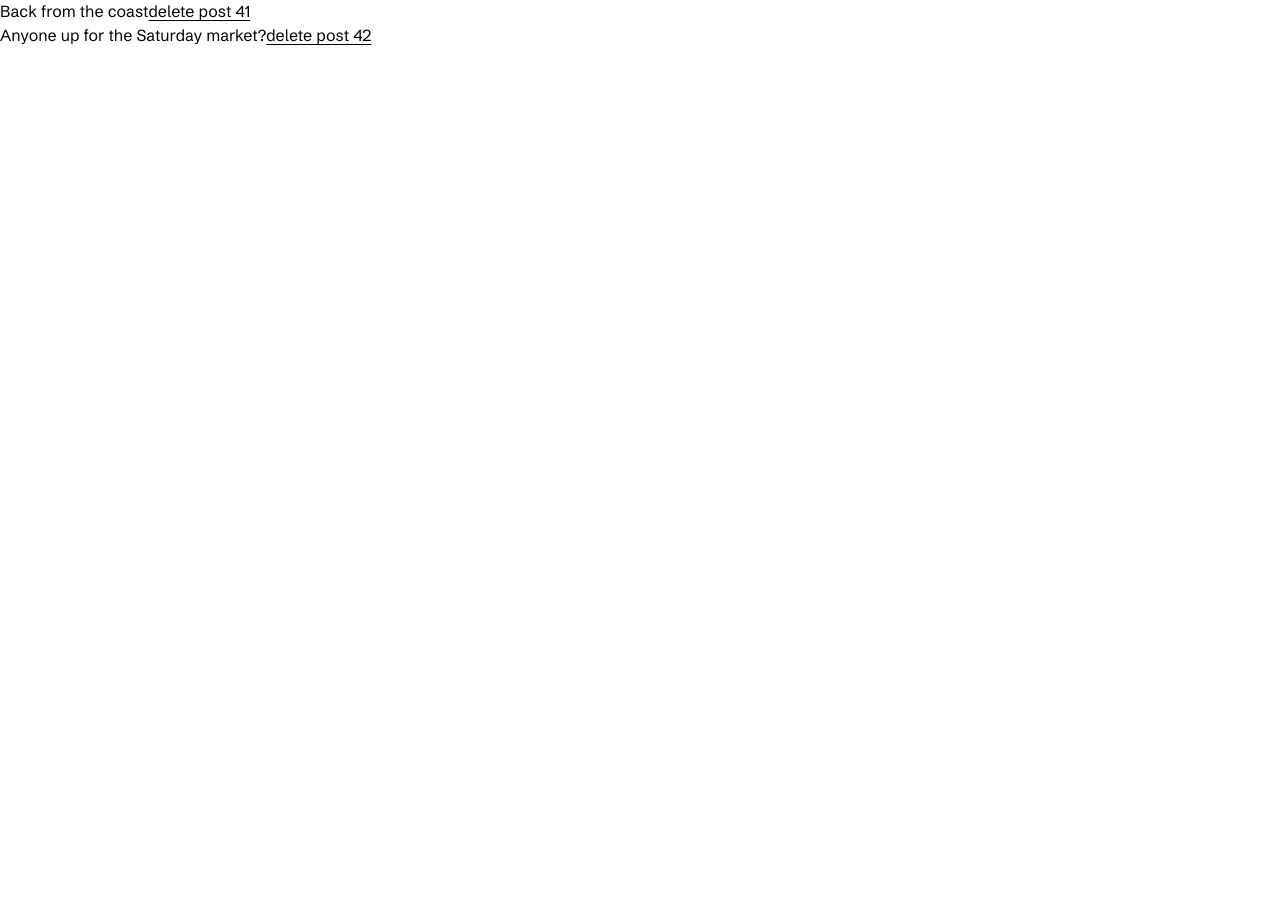
Test case: useConfirm › keeps the dialog open with the error message when the action fails (F-53)
Click the button "delete post 41" at {"x": 199, "y": 12}, box [148,0,250,24]
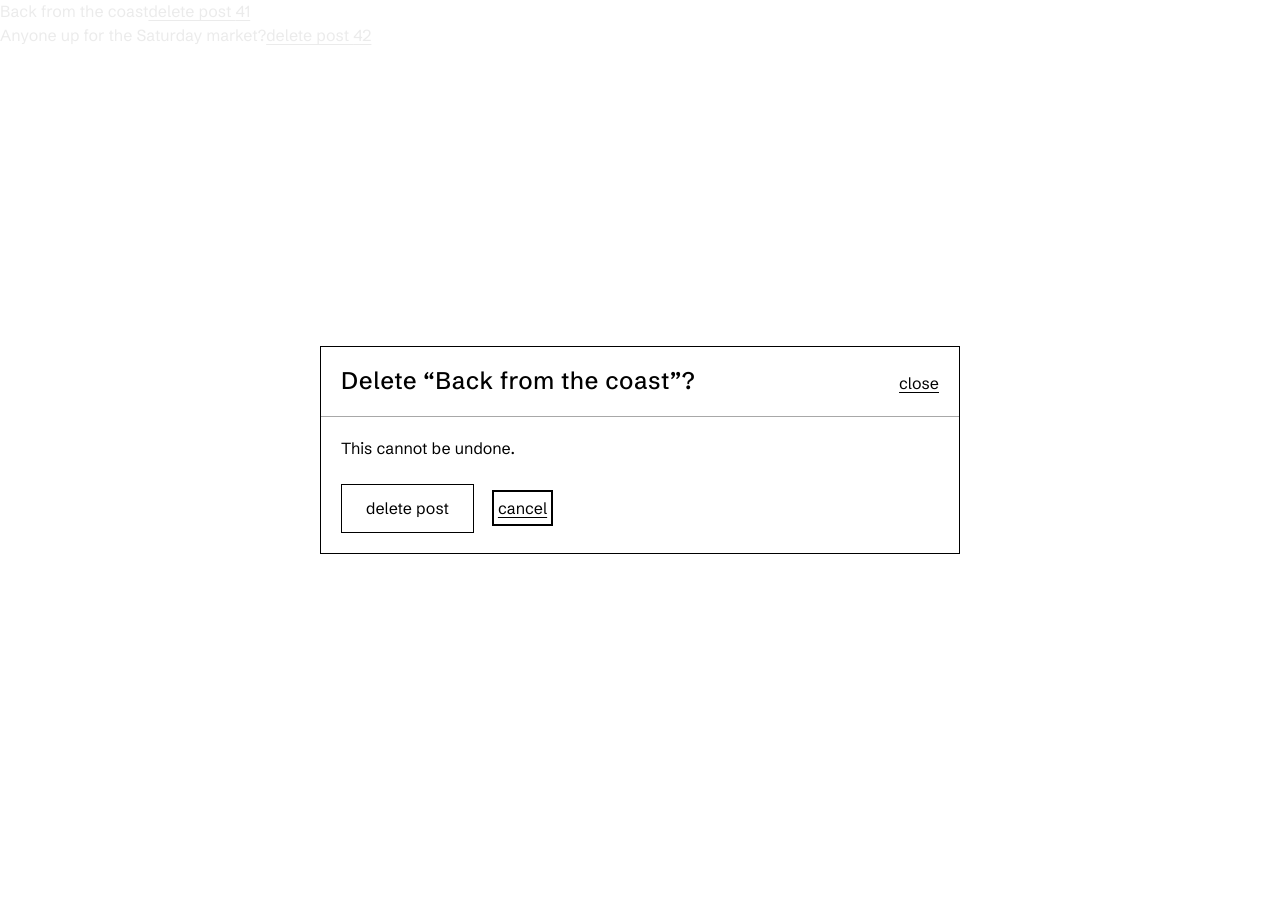
Click the button "delete post" at {"x": 407, "y": 508}, box [341,484,474,533]
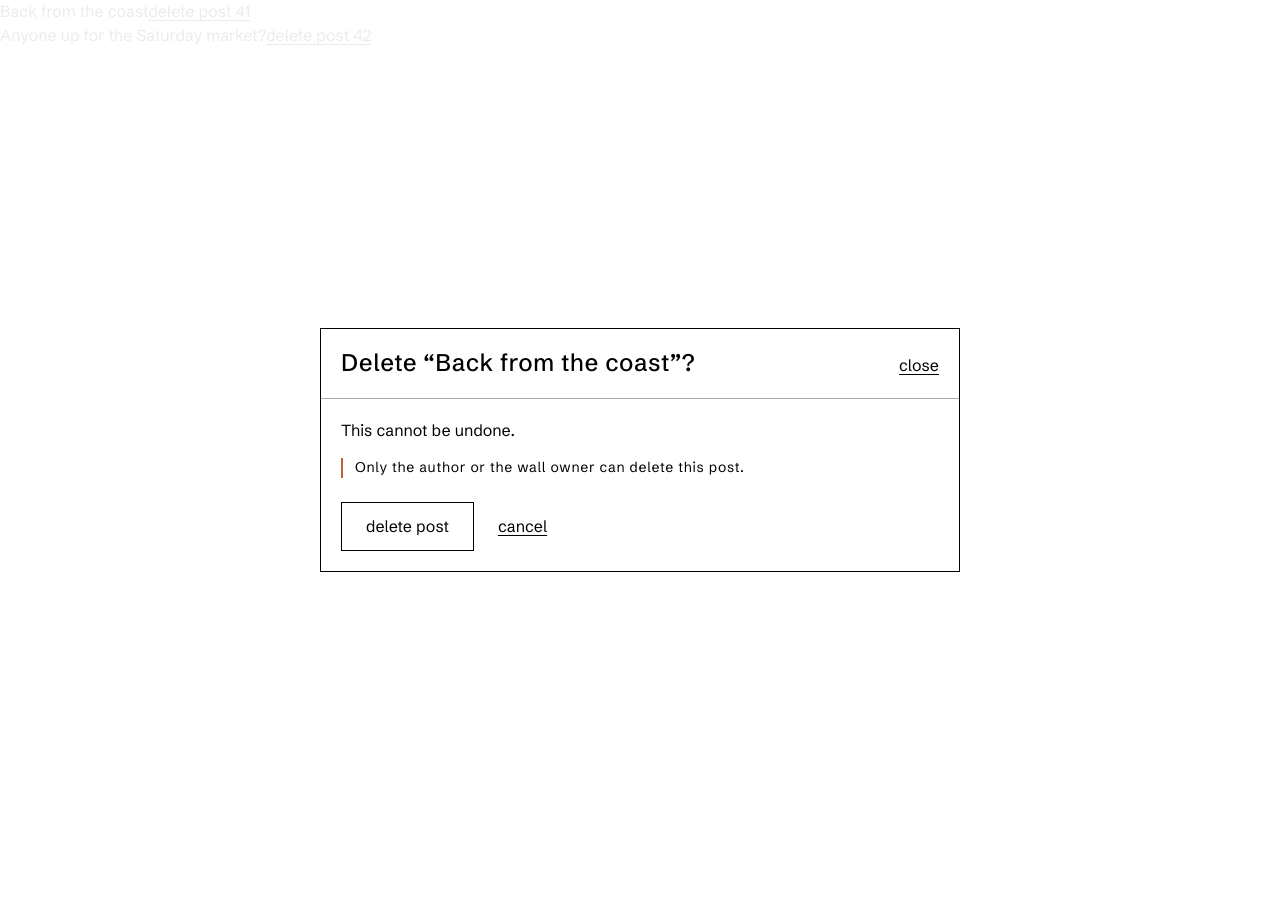
Check: the dialog is shown, box [320,328,960,572]
Check: the button "delete post" is enabled, box [341,502,474,551]
Check: the text "Only the author or the wall owner can delete this post." is shown, box [341,458,939,478]
